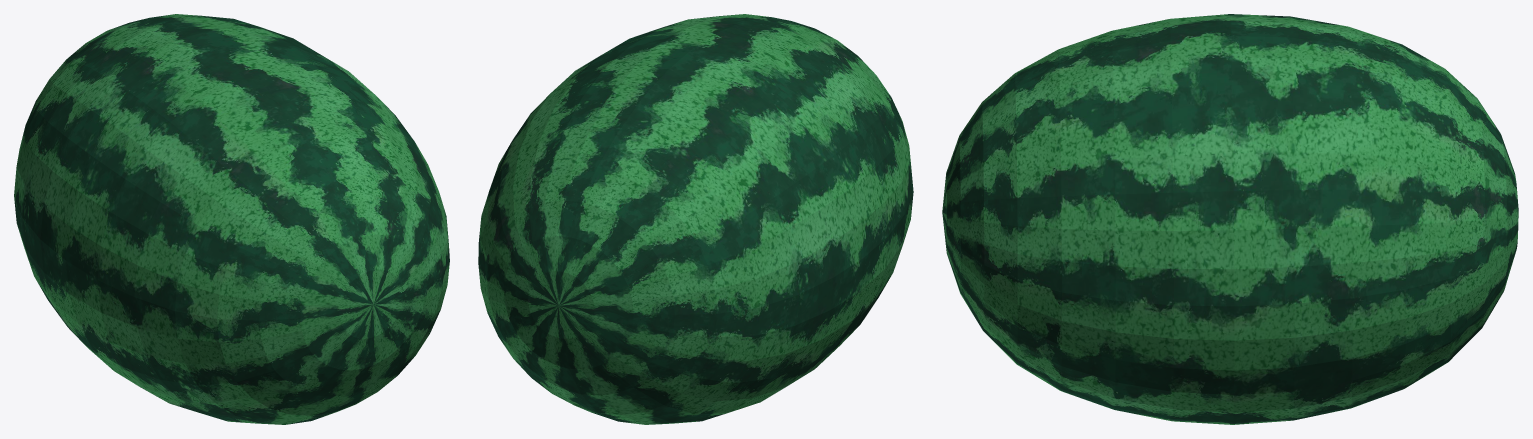
File: Watermelon.obj
The picture shows the model from 3 angles, left to right: view 1: azimuth 30°, elevation 25°; view 2: azimuth 150°, elevation 25°; view 3: azimuth 270°, elevation 25°; orthographic projection. The views are drawn at different scales.
Visible parts, largest first — view 1: watermelon; view 2: watermelon; view 3: watermelon.
Part boxes in pixels (x1=…): watermelon: x1=14, y1=14, x2=449, y2=424; watermelon: x1=478, y1=14, x2=913, y2=424; watermelon: x1=942, y1=14, x2=1518, y2=424.
Size of the model in its own units: 0.2002 by 0.1972 by 0.2778.
